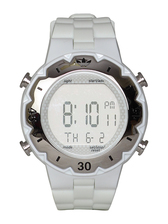watch: (14, 9, 152, 219)
